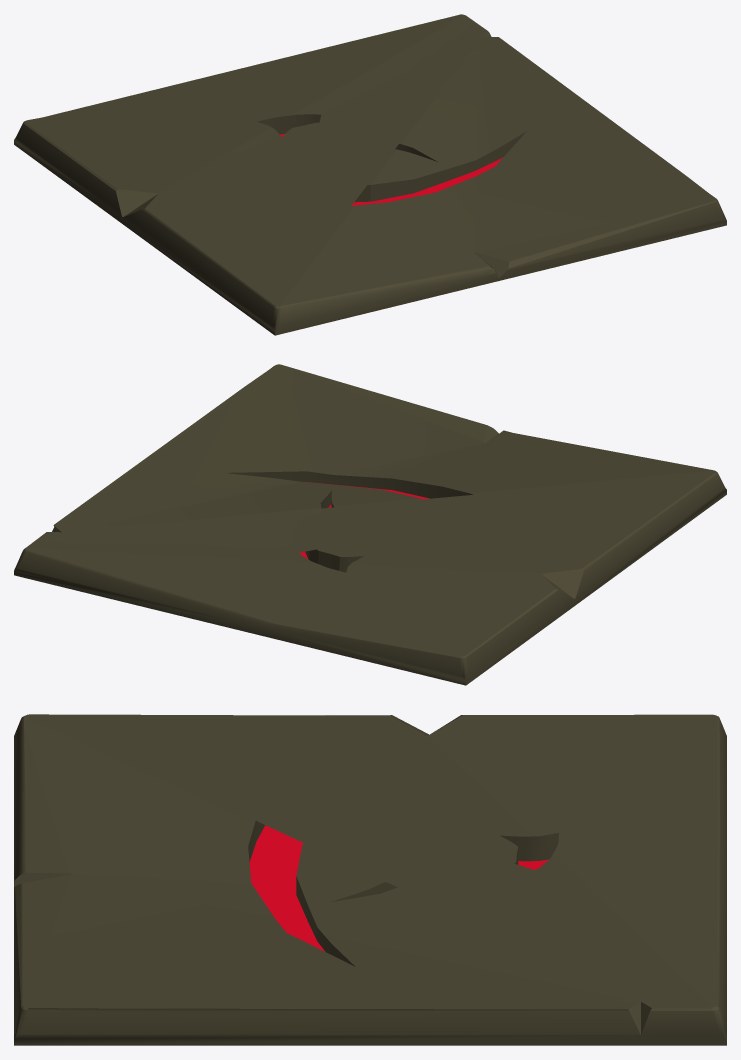
The model's file is X-dalle.fbx.
3 renders of one model, top to bottom at view 1: azimuth 30°, elevation 25°; view 2: azimuth 150°, elevation 25°; view 3: azimuth 270°, elevation 25°, orthographic. The views are drawn at different scales.
Visible parts, largest first — view 1: pCube143; view 2: pCube143; view 3: pCube143.
Boxes of the visible parts, bbox=[...] form: pCube143: bbox=[14, 14, 726, 335]; pCube143: bbox=[14, 364, 726, 685]; pCube143: bbox=[14, 714, 726, 1045].
Size of the model in its own units: 167 by 8.75 by 167.
